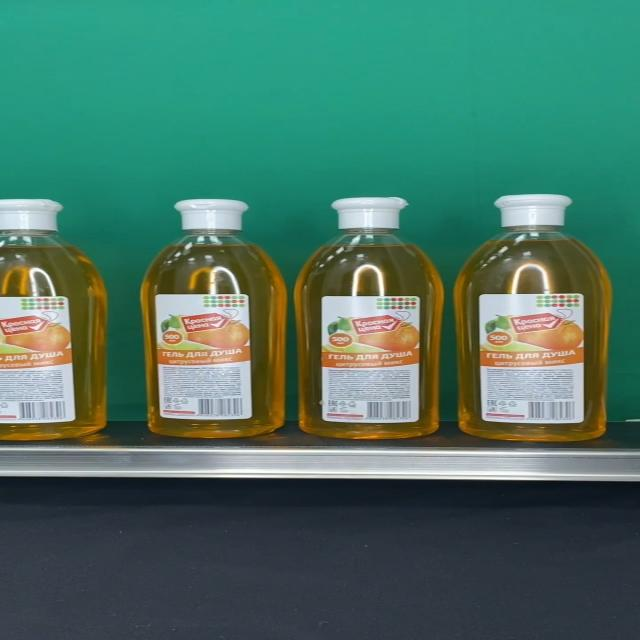Bottle: (453, 193, 612, 443), (295, 196, 444, 439), (140, 198, 286, 438)
Cap: (330, 196, 410, 228), (494, 194, 574, 226), (174, 198, 249, 230)
